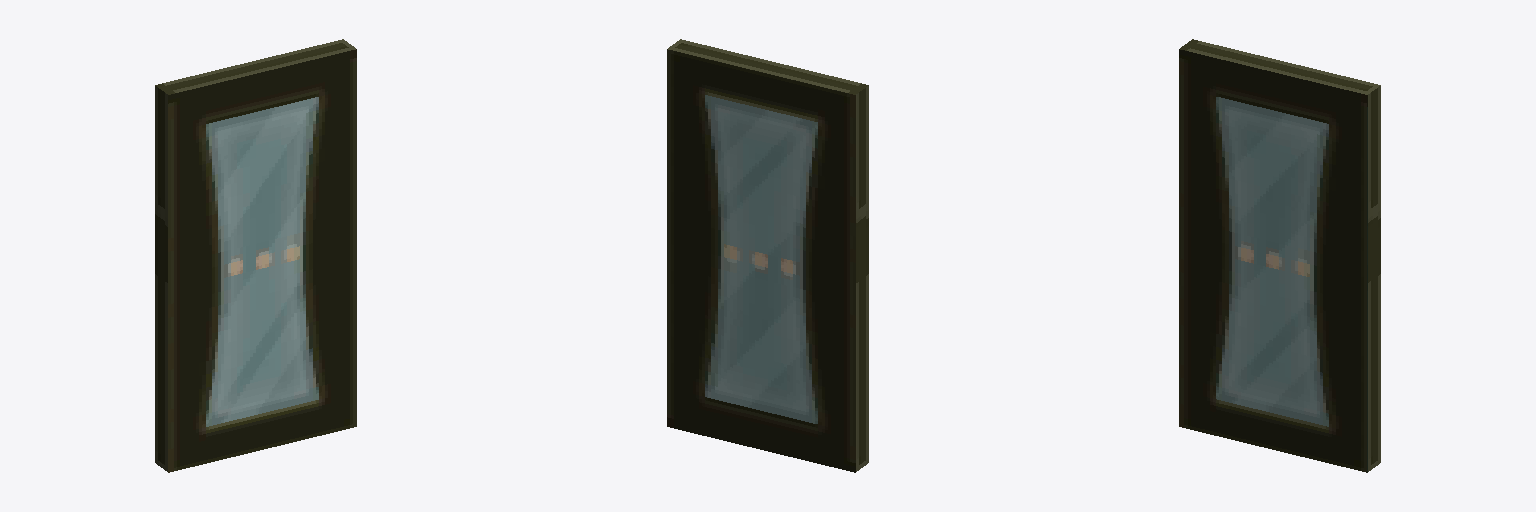
3 views of the same model, side by side, from view 1: azimuth 30°, elevation 25°; view 2: azimuth 150°, elevation 25°; view 3: azimuth 330°, elevation 25° (orthographic).
Parts seen in each view (by area): view 1: vsn_mesh_0_door_mesh_0_door; view 2: vsn_mesh_0_door_mesh_0_door; view 3: vsn_mesh_0_door_mesh_0_door.
Part boxes in pixels (bbox=[...]): vsn_mesh_0_door_mesh_0_door: bbox=[155, 39, 356, 472]; vsn_mesh_0_door_mesh_0_door: bbox=[667, 39, 868, 472]; vsn_mesh_0_door_mesh_0_door: bbox=[1179, 39, 1380, 472].
Bounding box in the file's own units: 0.32 × 0.6123 × 0.04.
1 materials, 1 textured.